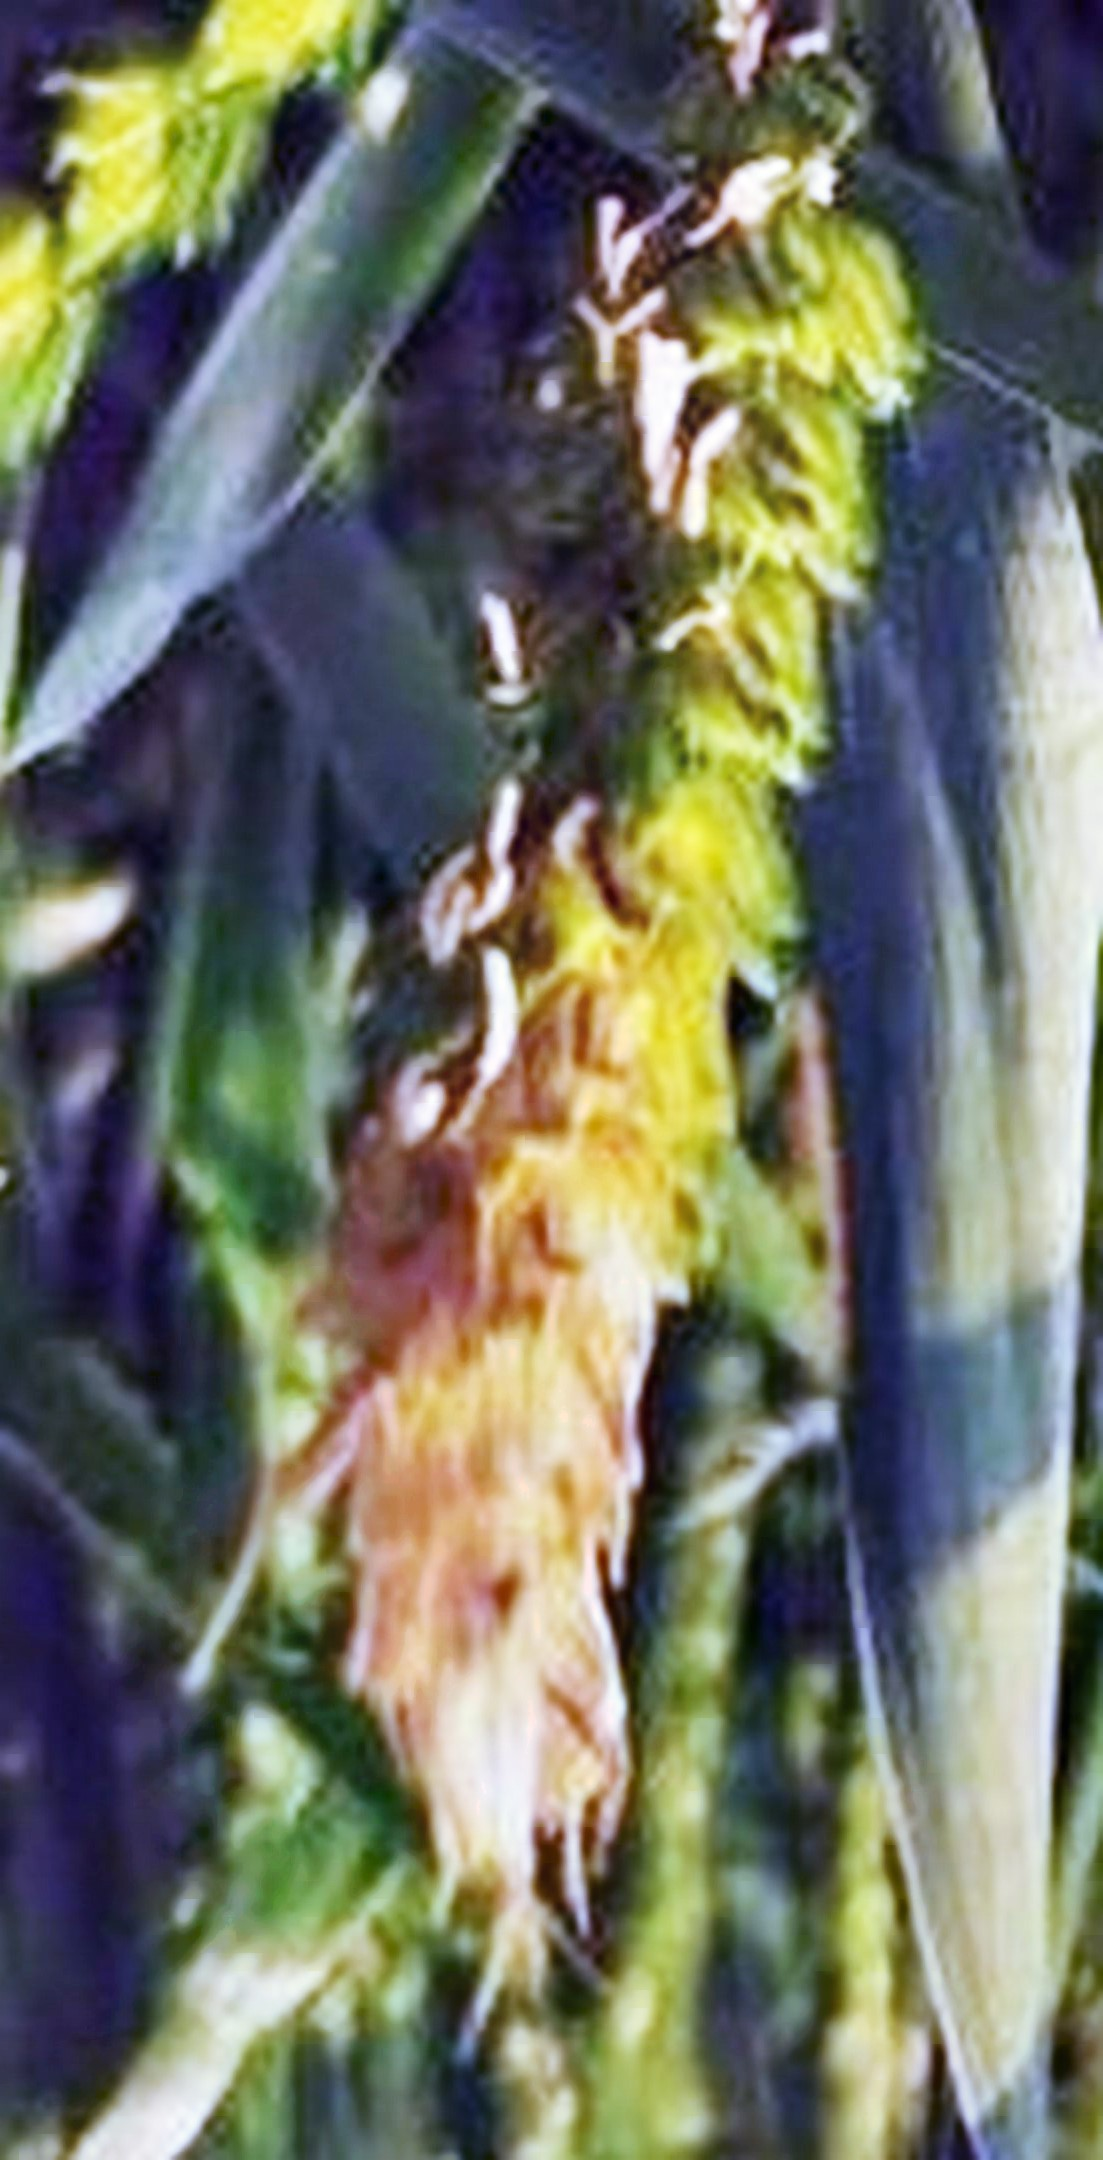Wheat scab: (338, 152, 914, 1740)
